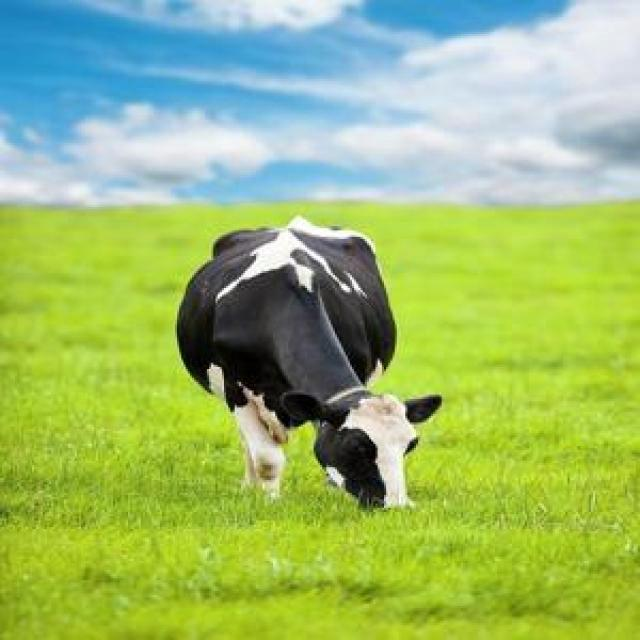cow: (178, 218, 441, 507)
